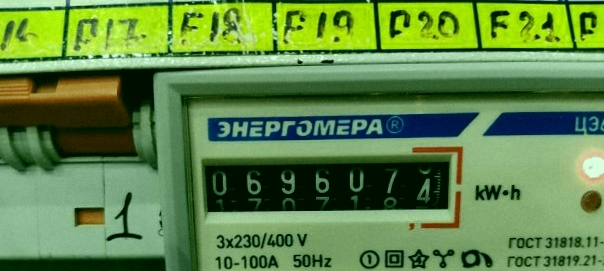0: (209, 167, 229, 196), (345, 165, 365, 192)
4: (414, 176, 432, 204)
6: (312, 165, 331, 193), (243, 168, 262, 195)
7: (380, 165, 400, 195)
9: (277, 167, 296, 196)
screen: (188, 142, 468, 231)
